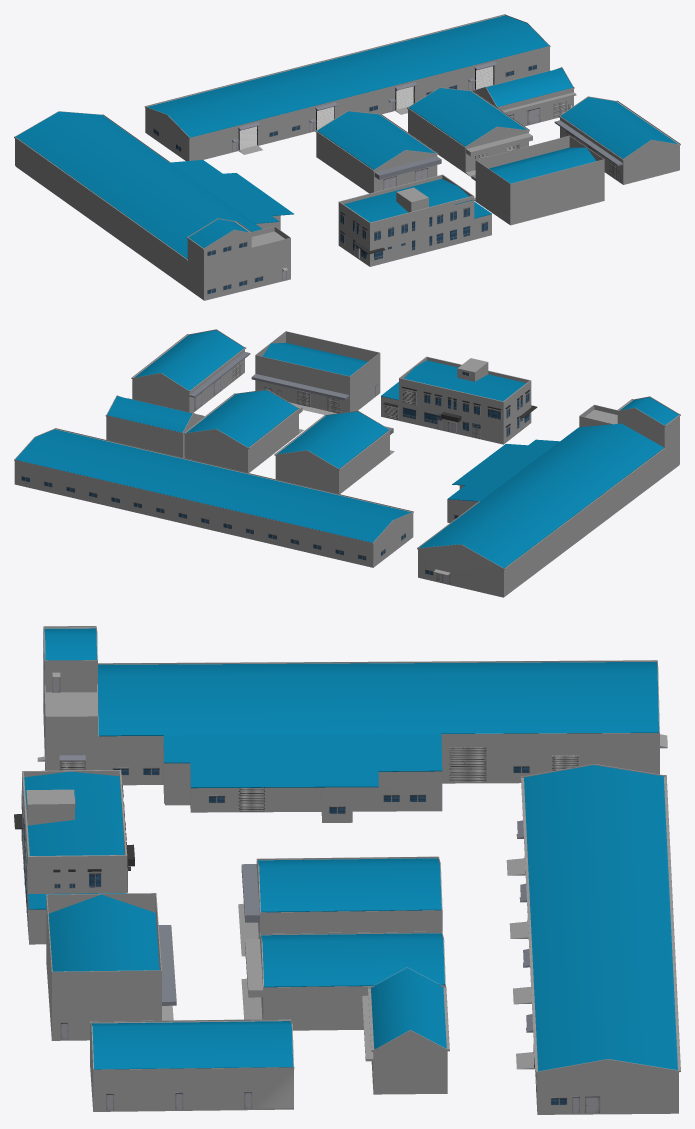
Rendered from soubrain_UP.glb.
3 renders of one model, top to bottom at view 1: azimuth 30°, elevation 25°; view 2: azimuth 150°, elevation 25°; view 3: azimuth 270°, elevation 25°, orthographic. The views are drawn at different scales.
Visible parts, largest first — view 1: UP-4, UP-1, UP-9 (1), UP-3 (1), UP-5 (1), UP-7 (1), UP-6 (1), door window, door; view 2: UP-4, UP-1, UP-9 (1), UP-3 (1), UP-5 (1), UP-7 (1), UP-6 (1), door, door window, UP-5; view 3: UP-4, UP-1, UP-9 (1), UP-6 (1), UP-5 (1), UP-7 (1), UP-3 (1), UP 4 window door, door.
Boxes of the visible parts, <box> form: UP-4: <box>14,111,293,300</box>; UP-1: <box>144,14,550,161</box>; UP-9 (1): <box>407,67,576,176</box>; UP-3 (1): <box>338,174,491,266</box>; UP-5 (1): <box>471,135,604,225</box>; UP-7 (1): <box>315,110,441,193</box>; UP-6 (1): <box>554,96,680,184</box>; door window: <box>153,64,536,151</box>; door: <box>340,206,488,260</box>; UP-4: <box>417,396,680,597</box>; UP-1: <box>14,428,413,567</box>; UP-9 (1): <box>105,389,303,472</box>; UP-3 (1): <box>381,356,537,444</box>; UP-5 (1): <box>251,331,380,414</box>; UP-7 (1): <box>274,410,394,494</box>; UP-6 (1): <box>131,329,250,413</box>; door: <box>384,371,529,438</box>; door window: <box>21,476,405,560</box>; UP-5: <box>264,384,377,413</box>; UP-4: <box>37,626,667,822</box>; UP-1: <box>506,764,680,1114</box>; UP-9 (1): <box>241,931,449,1094</box>; UP-6 (1): <box>90,1019,294,1111</box>; UP-5 (1): <box>46,893,176,1040</box>; UP-7 (1): <box>238,856,442,956</box>; UP-3 (1): <box>14,770,134,944</box>; UP 4 window door: <box>43,636,578,813</box>; door: <box>21,790,127,931</box>.
Size of the model in its own units: 110 by 13.36 by 76.31.
Materials: 20 (17 with a texture image).
